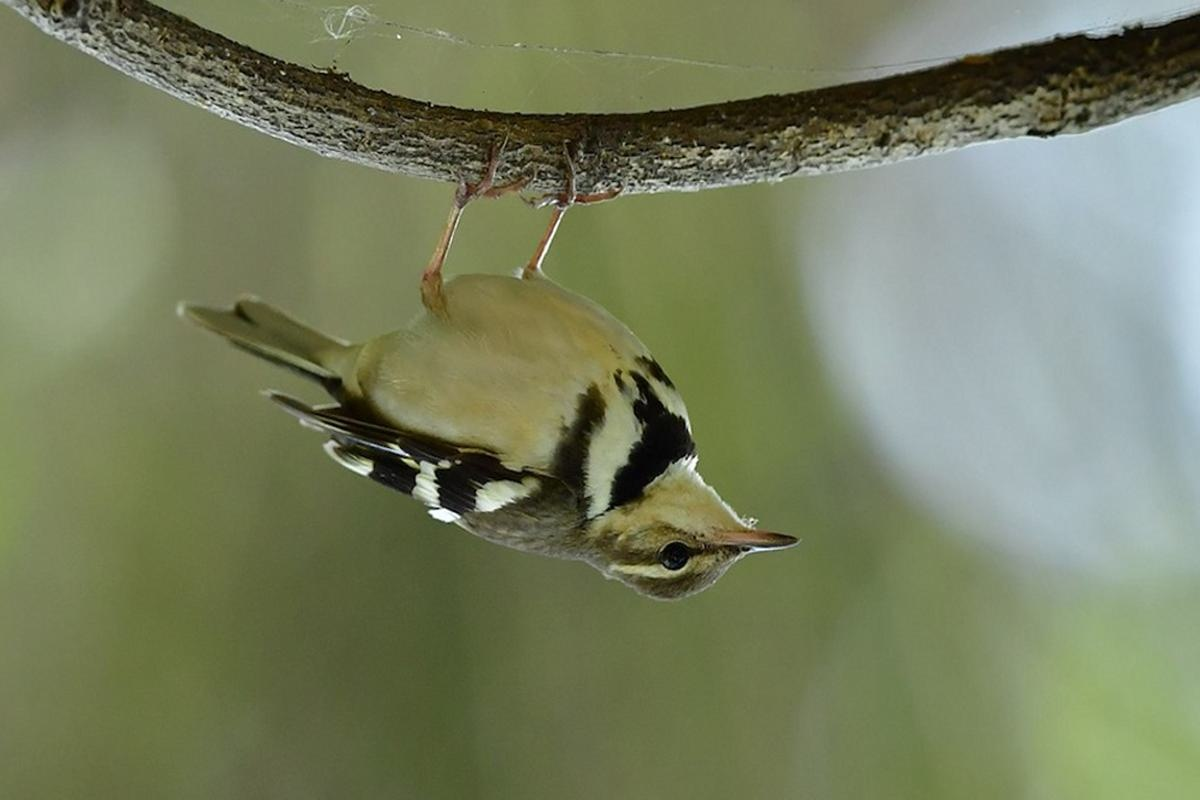wagtail: (137, 174, 817, 615)
